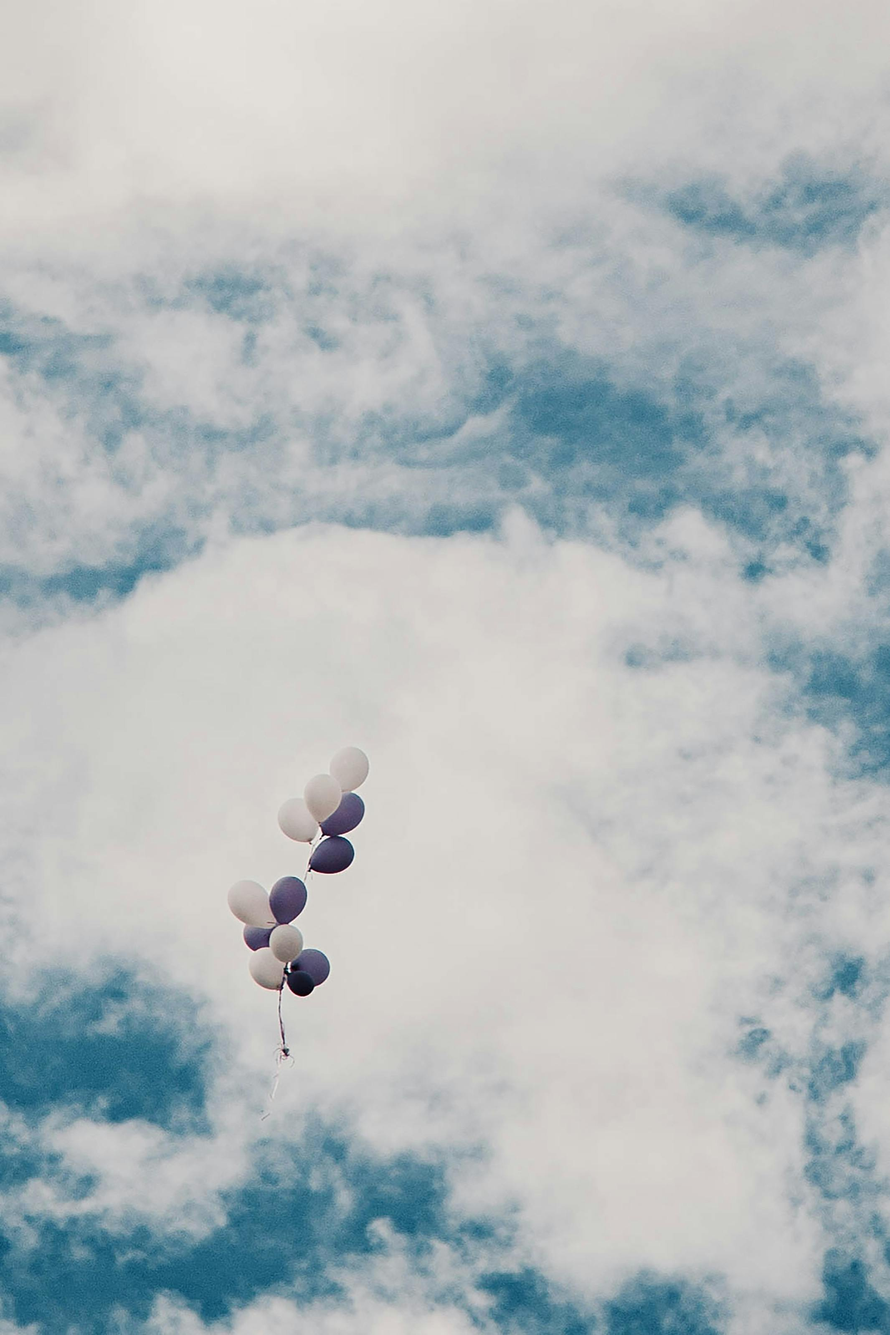balloon: (227, 881, 274, 926), (320, 792, 365, 837), (304, 774, 342, 823), (278, 798, 319, 843), (329, 747, 369, 793), (269, 876, 307, 924), (308, 836, 354, 874), (249, 948, 284, 990), (291, 949, 330, 985), (269, 925, 303, 964), (287, 970, 314, 997), (243, 926, 272, 951)
